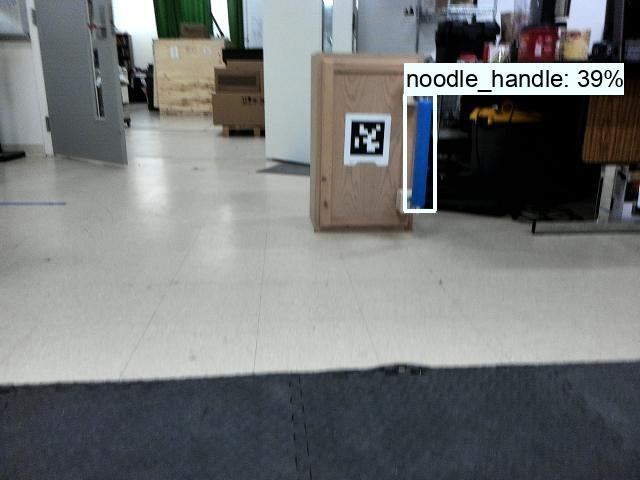noodle_handle: (406, 94, 434, 210)
